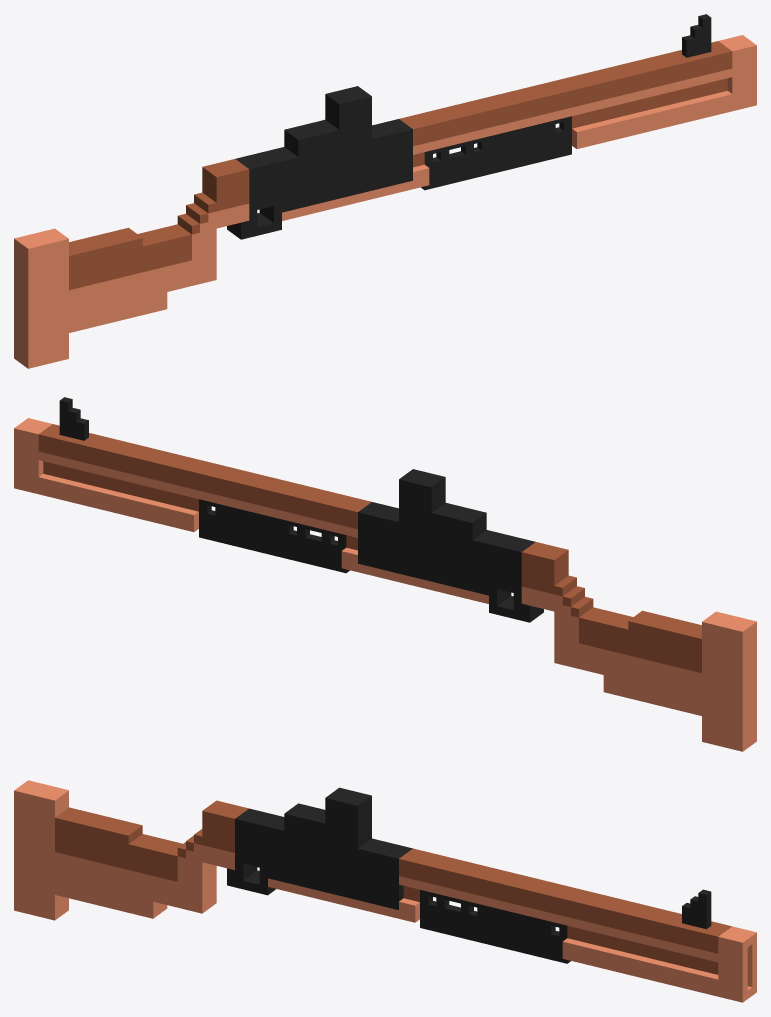
File: Gun3.obj
3 views of the same model, one above another, from view 1: azimuth 30°, elevation 25°; view 2: azimuth 150°, elevation 25°; view 3: azimuth 330°, elevation 25° (orthographic).
Visible parts, largest first — view 1: Gun3; view 2: Gun3; view 3: Gun3.
Part boxes in pixels (x1,y1,x2,y2): Gun3: (14,14,756,368); Gun3: (14,397,756,751); Gun3: (14,780,756,1002).
Size of the model in its own units: 89 by 22 by 3.
Materials: 1 (1 with a texture image).
